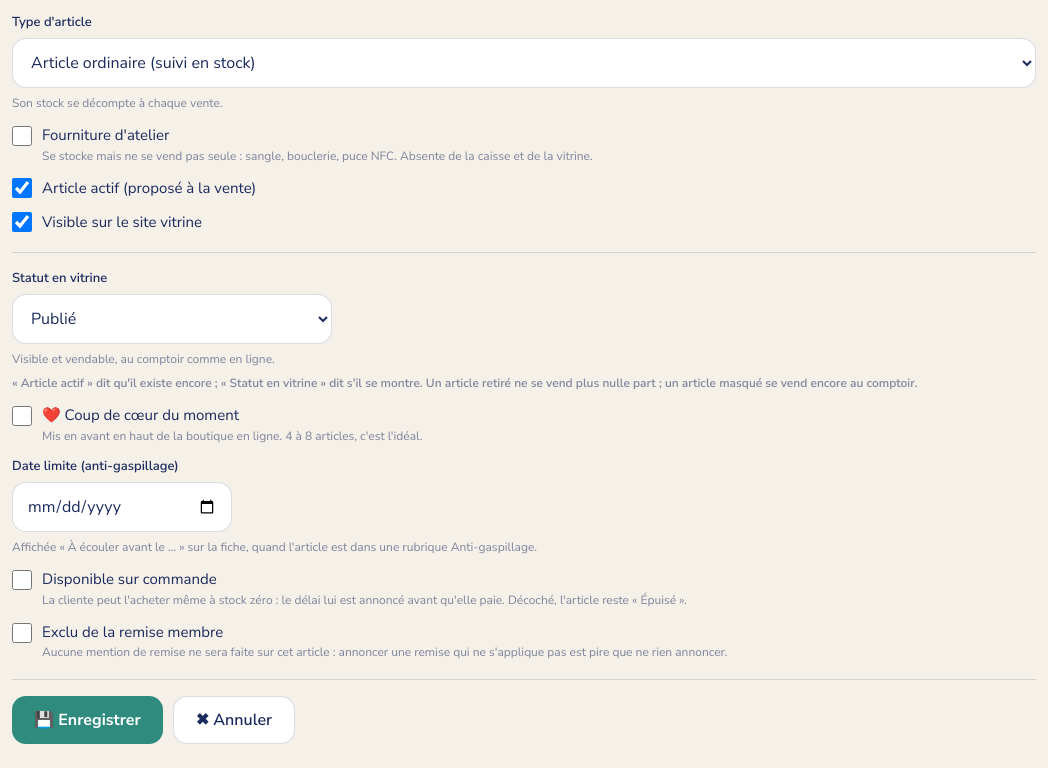
Test: la case « Disponible sur commande » › cochée SANS délai connu : l'avertissement le dit, en clair
(page scrolled)
Click the checkbox labelled "Disponible sur commande" at (22, 580), box [12,570,32,590]
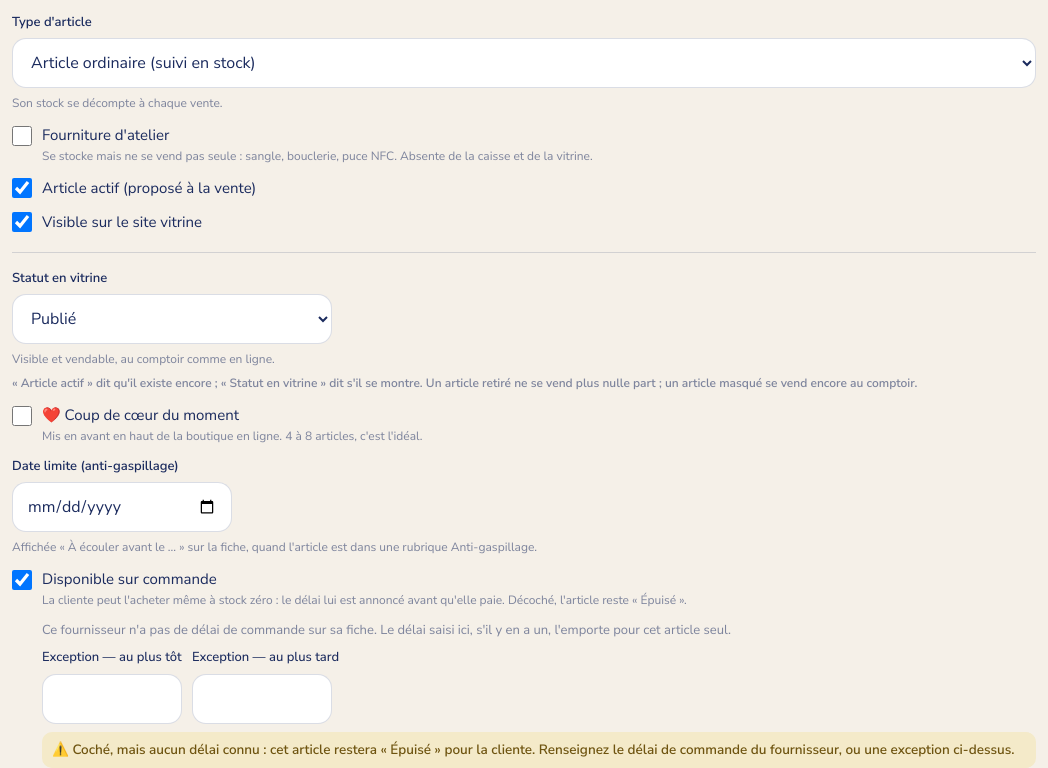
expect the message is shown: met, box [42,732,1036,767]
expect the message shows "aucun délai connu": met, box [52,740,1014,758]
expect the message shows "Épuisé": met, box [52,740,1014,758]
